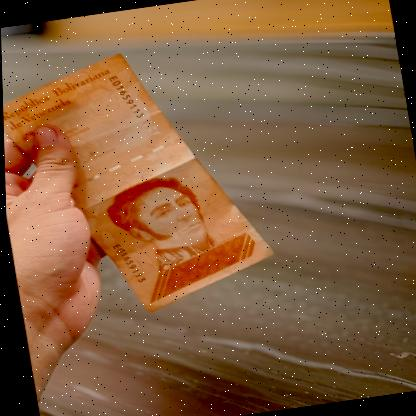vef_front: (1, 34, 280, 331)
